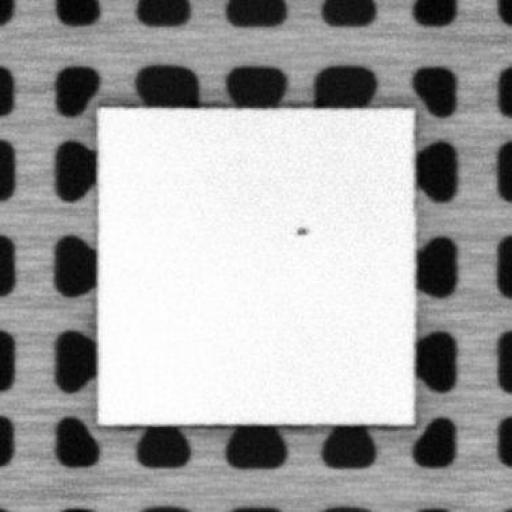DIE_INK: (294, 222, 311, 236)
